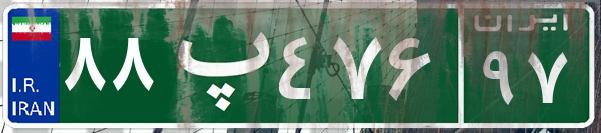4: (273, 28, 330, 110)
6: (385, 28, 445, 110)
7: (330, 28, 385, 110), (525, 38, 570, 115)
8: (57, 26, 110, 107), (110, 28, 158, 105)
9: (475, 38, 525, 113)
پ: (158, 15, 273, 115)
